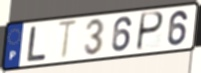3: (83, 17, 107, 57)
6: (167, 9, 190, 48), (111, 15, 133, 54)
L: (25, 25, 48, 63)
P: (135, 10, 165, 53)
T: (56, 19, 80, 62)
